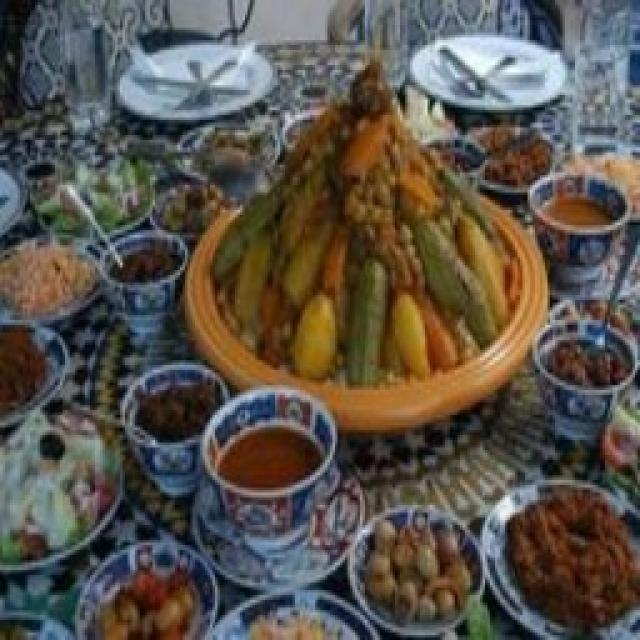Couscous: (211, 61, 516, 387)
